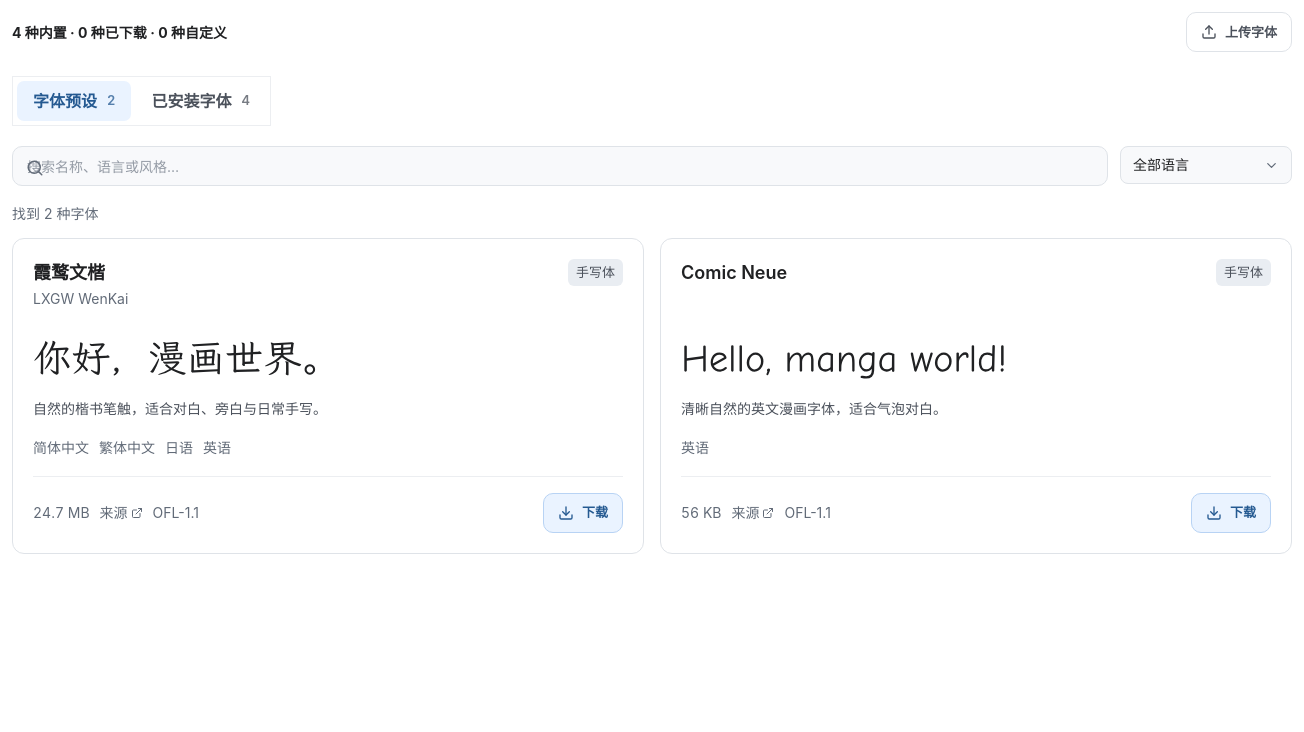
Scenario: font library › filters languages and restores an empty search
Expected: the element "Comic Neue" is shown, [660, 238, 1292, 554]
Click the button with aria-label "字体语言".
click(1206, 165)  # box [1120, 146, 1292, 184]
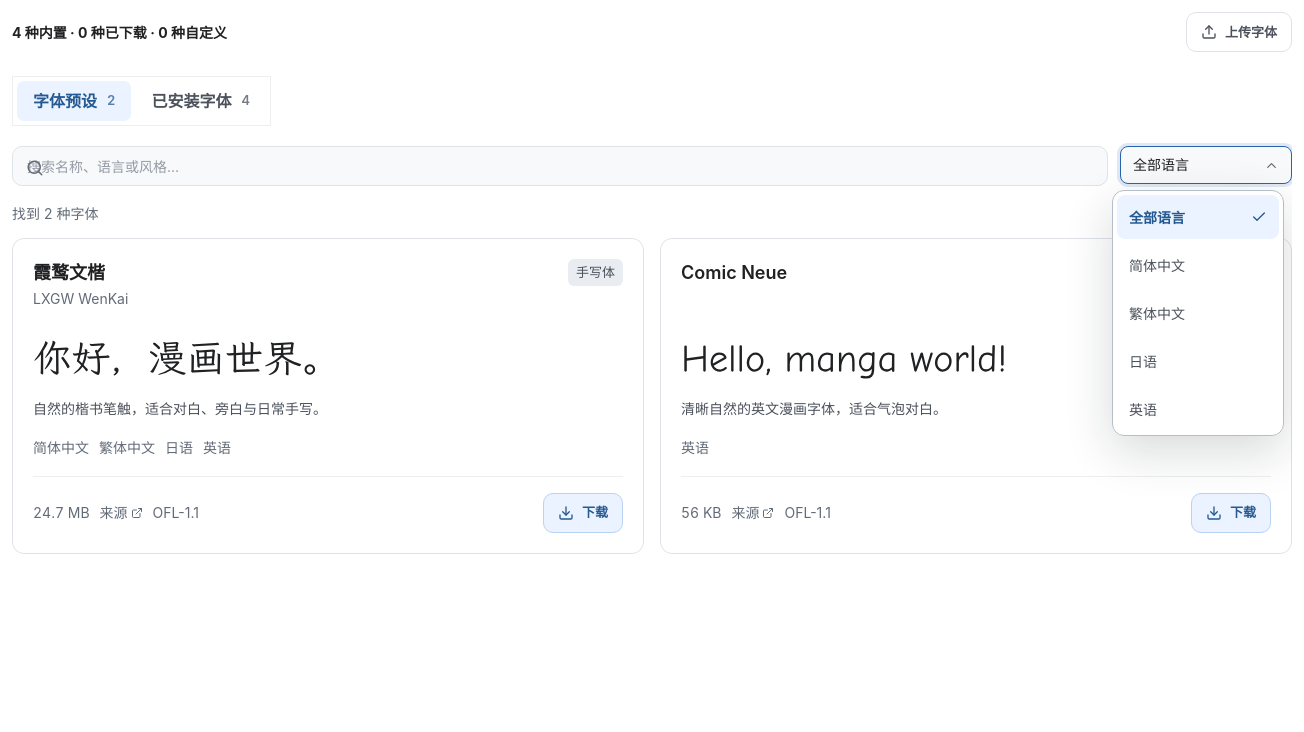
Click the option "繁体中文".
click(1198, 313)  # box [1117, 291, 1279, 335]
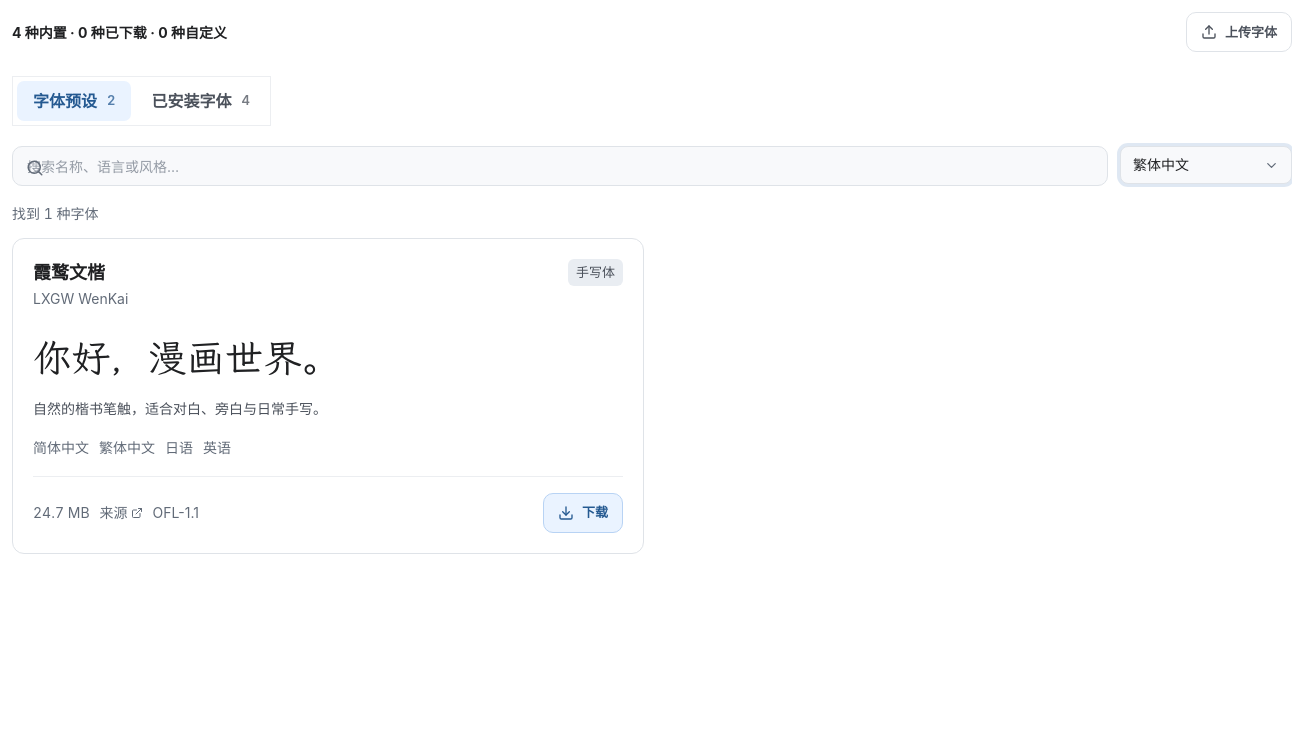
Now the heading "Comic Neue" is gone
Type "not-a-font" into the search field.
click(560, 166); type("not-a-font")  # box [12, 146, 1108, 186]
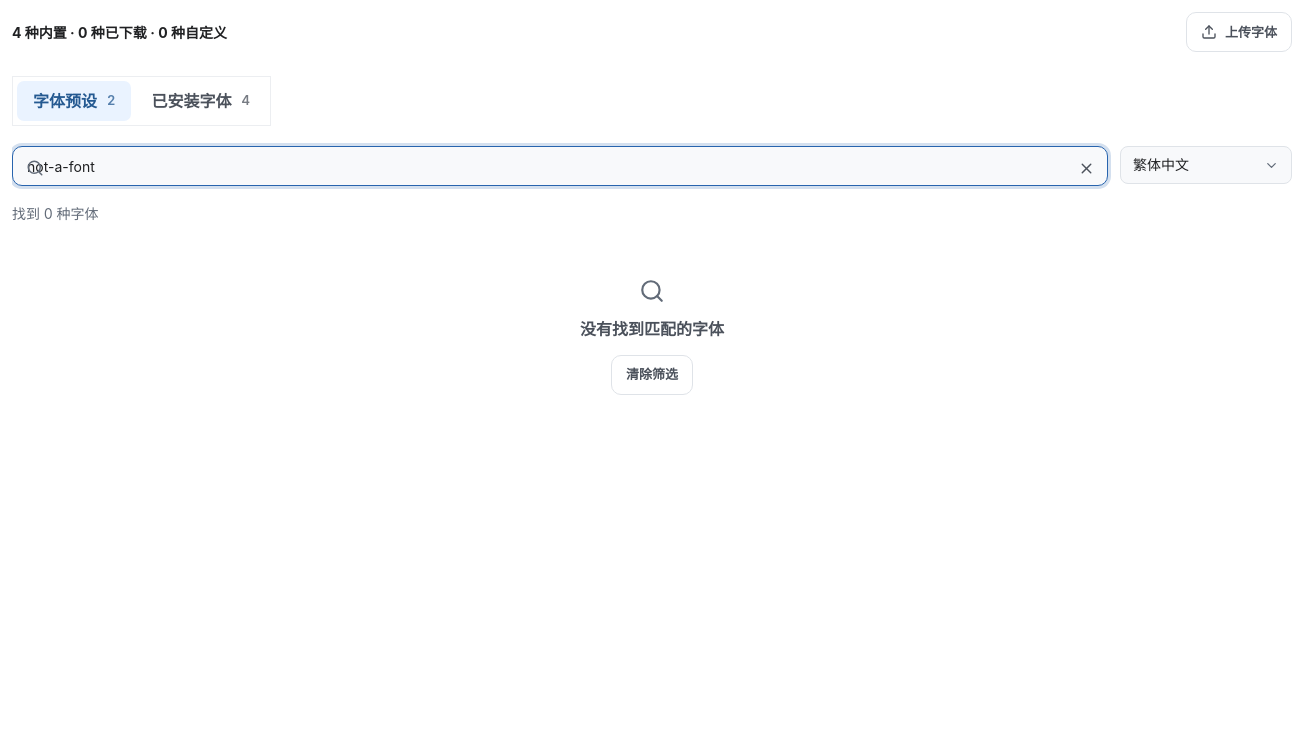
Now the text "没有找到匹配的字体" is shown, box [580, 316, 724, 343]
Click the button "清除筛选".
click(652, 375)  # box [611, 355, 693, 395]
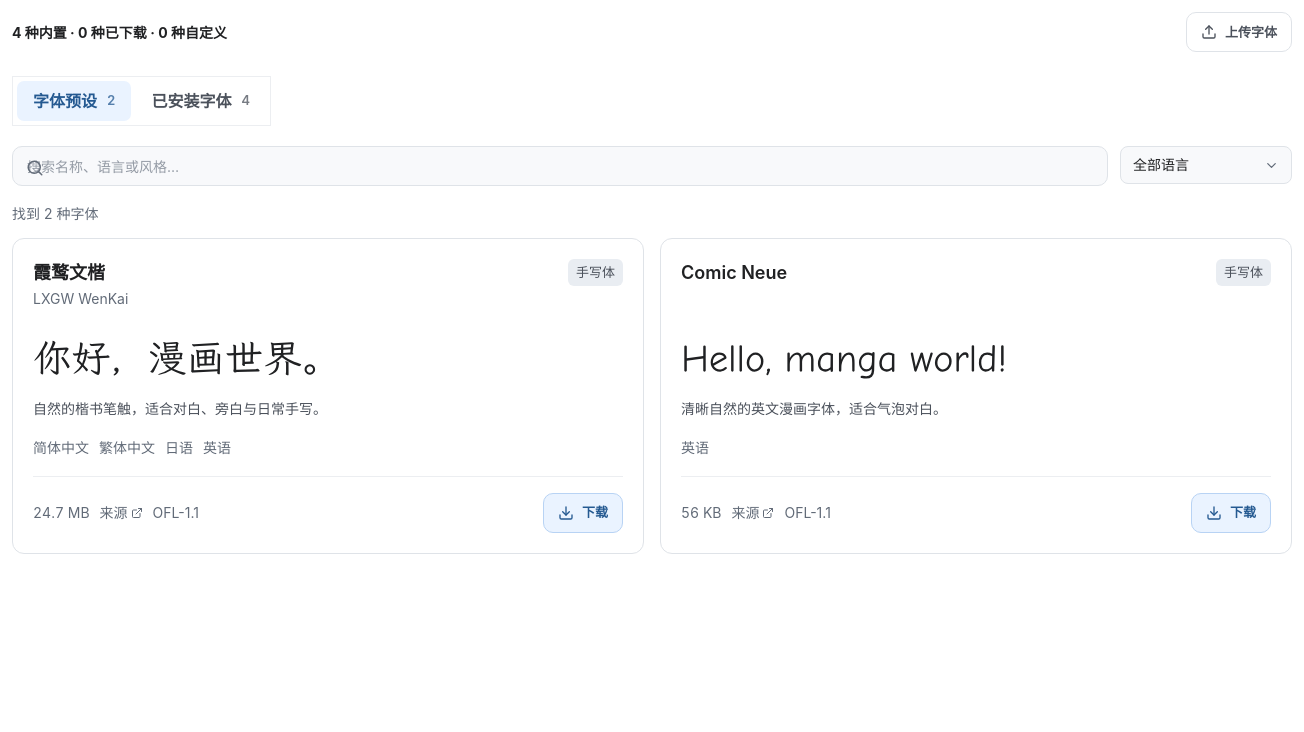
Now the search field is empty, box [12, 146, 1108, 186]
Now the element "Comic Neue" is shown, box [660, 238, 1292, 554]
